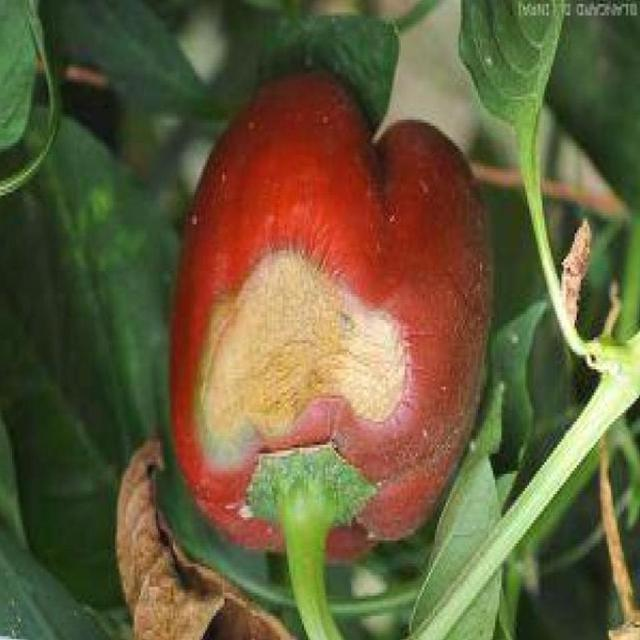Sunscald Fruit: (128, 166, 274, 315)
